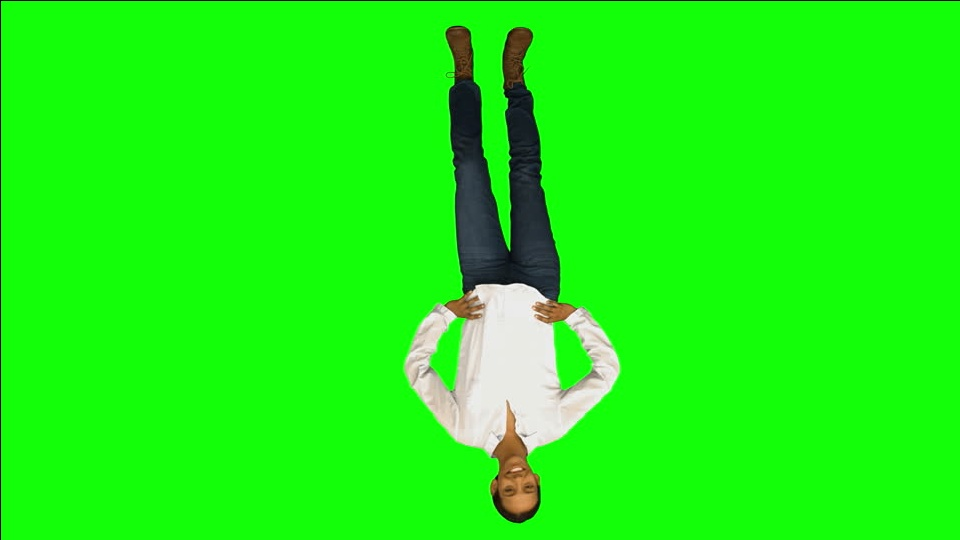arm: (564, 304, 622, 435), (402, 305, 457, 437)
chest: (457, 312, 564, 400)
face: (492, 464, 546, 526)
foot: (444, 26, 480, 82), (503, 28, 537, 86)
hand: (533, 295, 581, 320), (444, 294, 483, 320)
leg: (501, 87, 561, 284), (450, 82, 499, 284)
neck: (493, 435, 534, 462)
